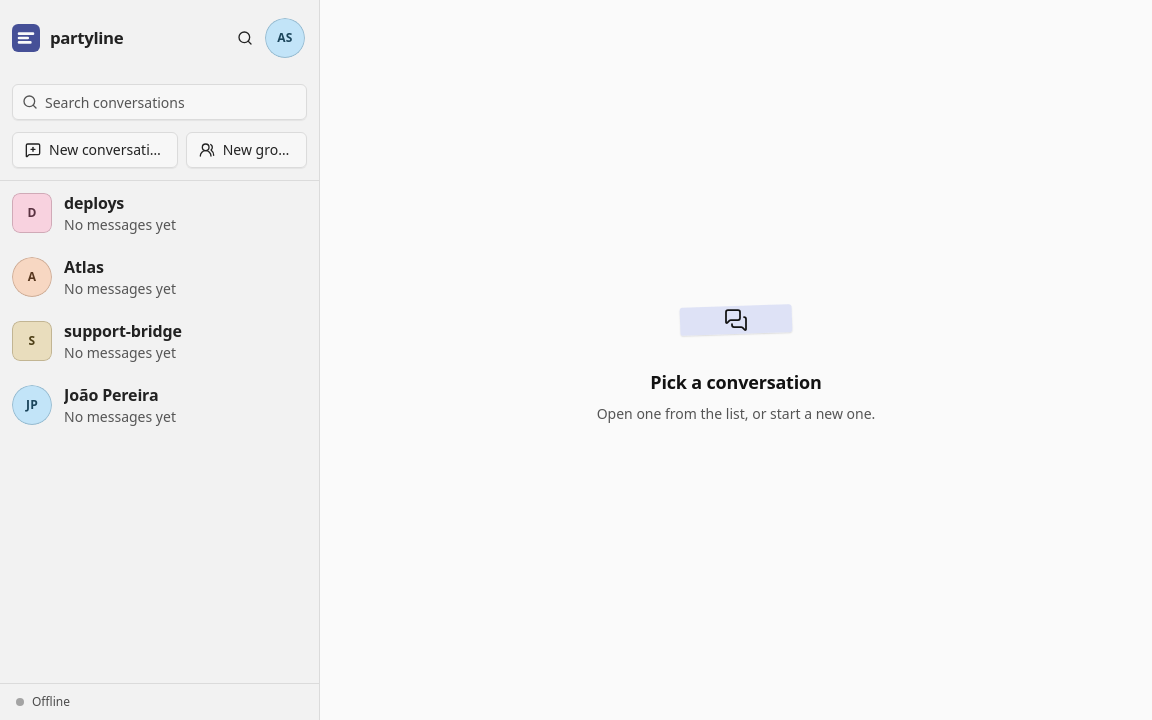
Test: search (LAY-03) › needs every word of the search, each found in the name or the members
In the search field labelled "Search conversations": x=160, y=102 left=12, top=84, right=307, bottom=120, type "deploys atlas"
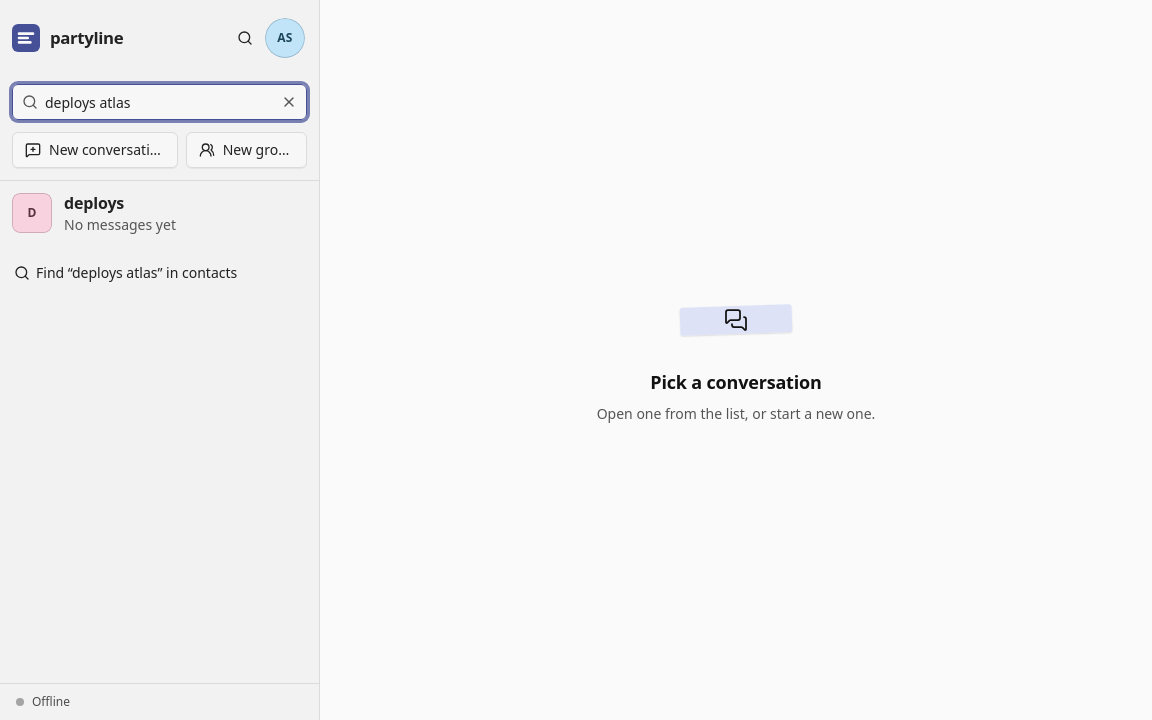
In the search field named "Search conversations": x=160, y=102 left=12, top=84, right=307, bottom=120, type " zed"
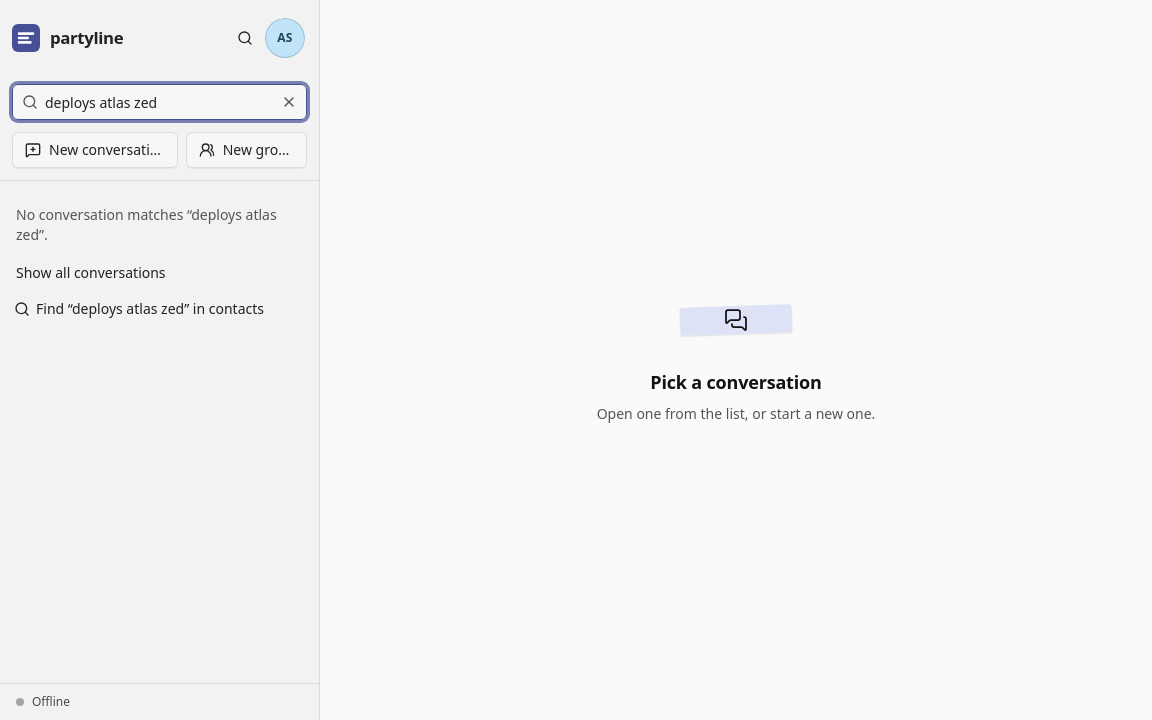
Expected: the text "No conversation matches “deploys atlas zed”." is shown, left=16, top=205, right=277, bottom=244
